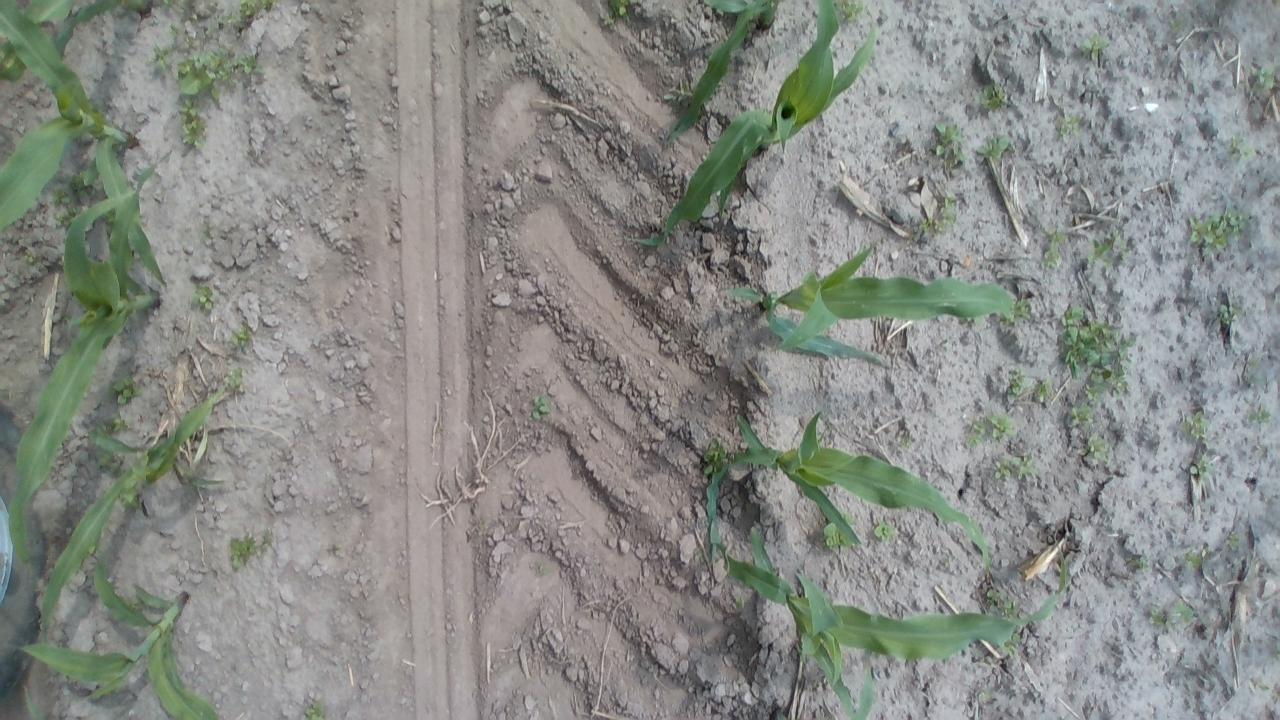Maize: (703, 526, 1076, 717), (16, 143, 176, 560), (632, 5, 881, 256), (0, 0, 162, 296), (709, 404, 992, 572), (35, 388, 232, 618), (3, 536, 225, 718), (724, 244, 1028, 371), (658, 0, 793, 146), (0, 0, 141, 74)
Weeds: (1061, 308, 1137, 398), (172, 50, 258, 102), (1186, 206, 1254, 260), (961, 412, 1018, 450), (226, 530, 275, 570), (1086, 228, 1132, 270), (932, 118, 968, 169), (1149, 598, 1198, 634), (916, 192, 956, 234), (178, 100, 208, 150), (978, 588, 1022, 622), (972, 81, 1012, 118), (991, 452, 1042, 480), (1040, 226, 1069, 270), (975, 134, 1013, 166), (232, 0, 282, 24), (108, 375, 142, 408), (702, 436, 732, 472), (52, 176, 93, 202), (1081, 432, 1112, 466), (62, 168, 101, 195), (1226, 133, 1258, 163), (1248, 61, 1277, 94), (528, 391, 556, 424), (1080, 32, 1110, 62), (52, 202, 86, 228), (820, 522, 850, 551), (602, 0, 632, 29), (1182, 410, 1210, 441), (662, 83, 692, 111), (1003, 296, 1033, 324), (150, 43, 177, 74), (1004, 367, 1029, 400), (1056, 108, 1080, 142), (1190, 448, 1214, 482), (220, 366, 246, 396), (833, 0, 865, 24), (1244, 401, 1272, 428), (191, 284, 217, 312), (95, 448, 122, 474), (1068, 400, 1094, 427), (871, 518, 897, 544), (203, 12, 229, 38), (1002, 634, 1023, 666), (1218, 300, 1242, 328), (299, 699, 329, 720), (1182, 548, 1210, 570), (232, 322, 254, 350), (102, 415, 132, 435), (49, 184, 79, 204), (1033, 378, 1053, 406), (1223, 530, 1243, 552), (894, 430, 914, 452), (974, 685, 997, 704), (531, 558, 554, 576), (120, 494, 143, 510), (1131, 554, 1150, 573), (1169, 16, 1187, 36), (165, 25, 182, 42), (23, 250, 39, 266), (734, 594, 749, 610), (198, 225, 212, 242), (186, 8, 198, 22), (0, 385, 9, 399), (60, 312, 72, 322), (944, 556, 954, 568), (1248, 360, 1258, 369), (176, 0, 188, 7), (162, 0, 175, 5)
